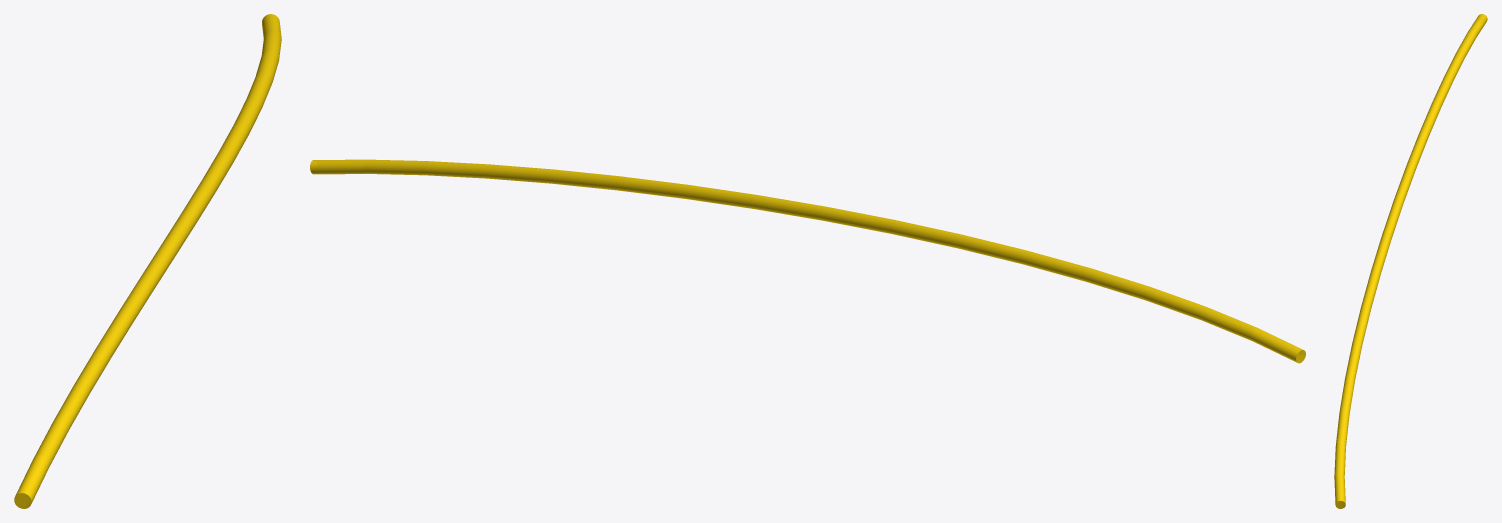
Rendered from Event_421115418_track_154.fbx.
3 renders of one model, left to right at view 1: azimuth 90°, elevation 25°; view 2: azimuth 150°, elevation 25°; view 3: azimuth 270°, elevation 25°, orthographic. The views are drawn at different scales.
Visible parts, largest first — view 1: Model; view 2: Model; view 3: Model.
Part boxes in pixels (x1,y1,x2,y2): Model: (14,14,281,508); Model: (310,159,1305,363); Model: (1334,14,1487,508).
Bounding box in the file's own units: 3.49 × 0.5069 × 0.5926.
